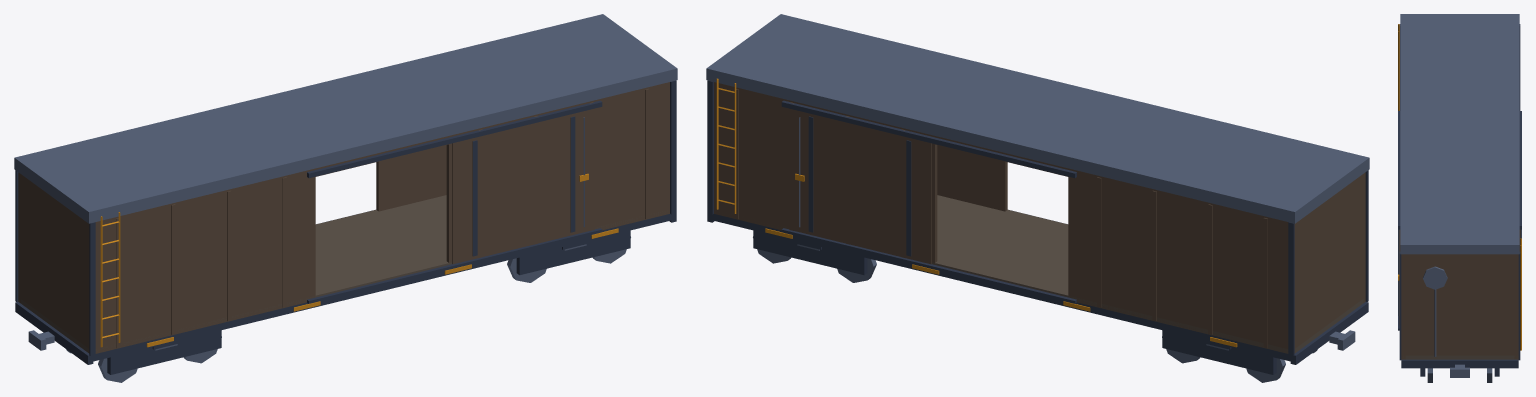
Rendered from port_freight_boxcar_open.glb.
The picture shows the model from 3 angles, left to right: view 1: azimuth 30°, elevation 25°; view 2: azimuth 150°, elevation 25°; view 3: azimuth 270°, elevation 25°; orthographic projection. The views are drawn at different scales.
Visible parts, largest first — view 1: body, roof, underframe, floor, ladder; view 2: body, roof, underframe, floor, ladder; view 3: roof, body, underframe, floor, ladder.
Part boxes in pixels (box(x1,y1,x2,y2)): body: box(18, 82, 669, 353); roof: box(14, 14, 677, 382); underframe: box(15, 80, 676, 374); floor: box(21, 195, 667, 352); ladder: box(100, 173, 618, 347); body: box(714, 82, 1365, 353); roof: box(706, 14, 1369, 382); underframe: box(707, 80, 1368, 374); floor: box(756, 195, 1363, 353); ladder: box(716, 78, 1237, 347); roof: box(1398, 14, 1521, 382); body: box(1399, 229, 1520, 359); underframe: box(1398, 24, 1521, 376); floor: box(1402, 355, 1518, 359); ladder: box(1398, 24, 1521, 350).
Bounding box in the file's own units: 14 × 4.2 × 3.
